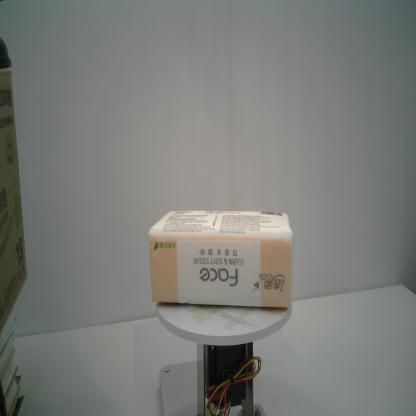Tissue: (147, 206, 295, 312)
